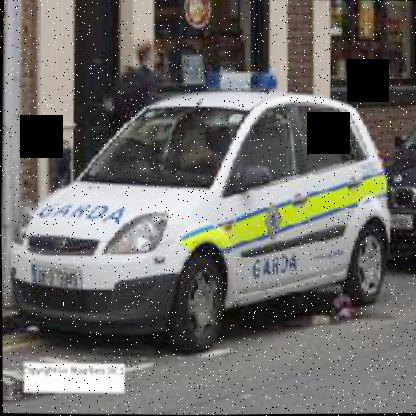emergency: (5, 65, 400, 343)
